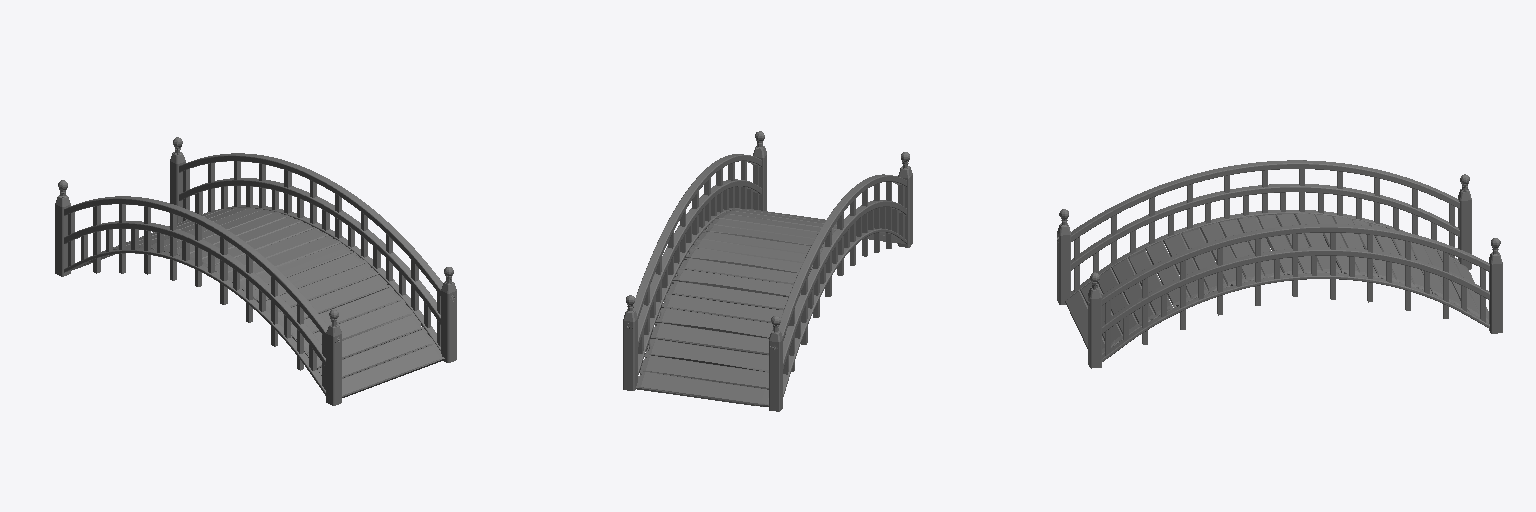
File: puen.OBJ
The picture shows the model from 3 angles: view 1: azimuth 30°, elevation 25°; view 2: azimuth 150°, elevation 25°; view 3: azimuth 270°, elevation 25°; orthographic projection.
Parts seen in each view (by area): view 1: JapanBridge_HanRail2; view 2: JapanBridge_HanRail2; view 3: JapanBridge_HanRail2.
Boxes of the visible parts, <box> form: JapanBridge_HanRail2: <box>55,137,456,405</box>; JapanBridge_HanRail2: <box>623,131,912,411</box>; JapanBridge_HanRail2: <box>1057,160,1502,368</box>.
Size of the model in its own units: 20.76 by 11.36 by 37.65.